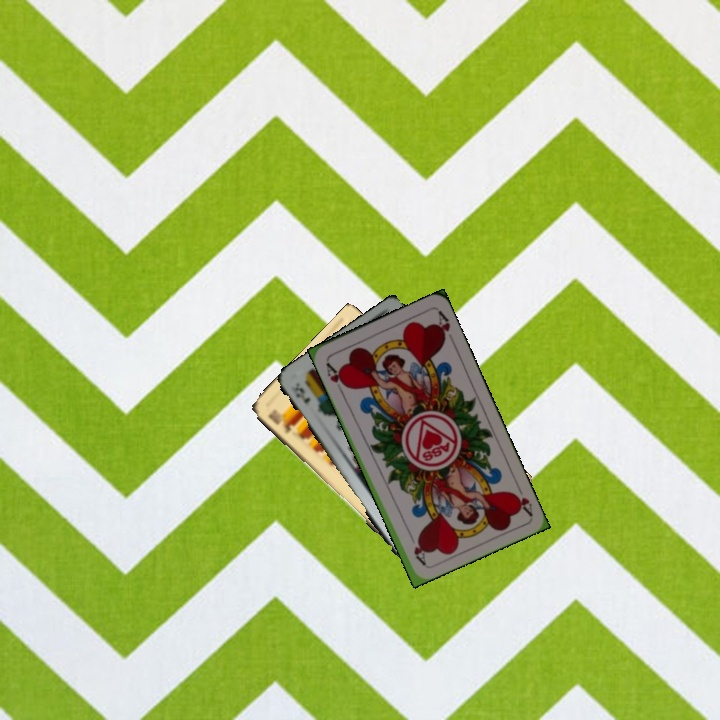E10: (264, 405, 297, 436)
EK: (288, 378, 313, 407)
HA: (322, 358, 350, 395), (508, 488, 535, 518)
